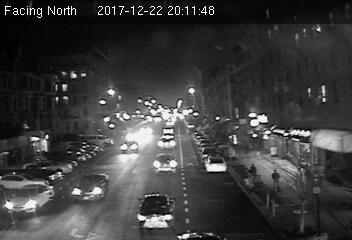car: (3, 182, 53, 214), (137, 192, 177, 228), (71, 172, 110, 202), (152, 154, 178, 175), (204, 155, 228, 174), (119, 140, 140, 154), (157, 137, 176, 150)
pedestrian: (269, 168, 283, 193)
